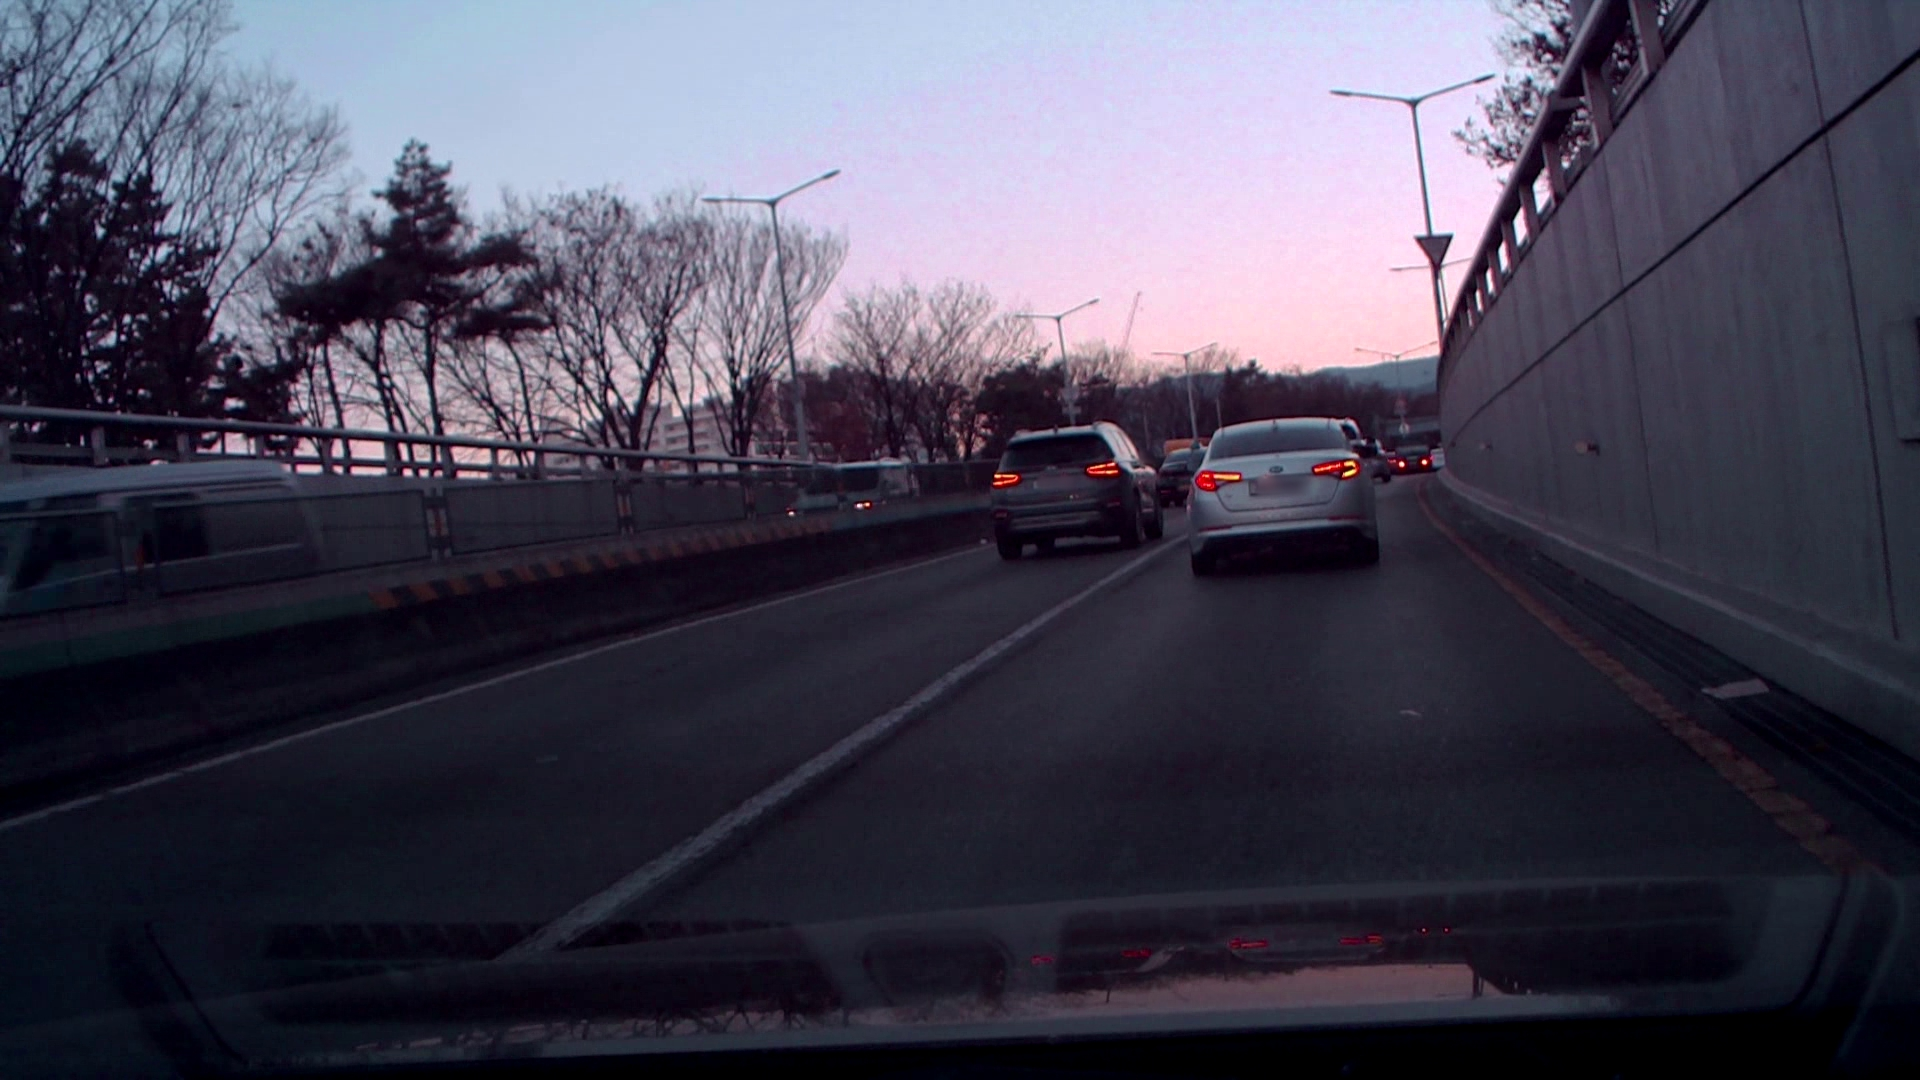trafficSignTri: (1412, 228, 1458, 280)
